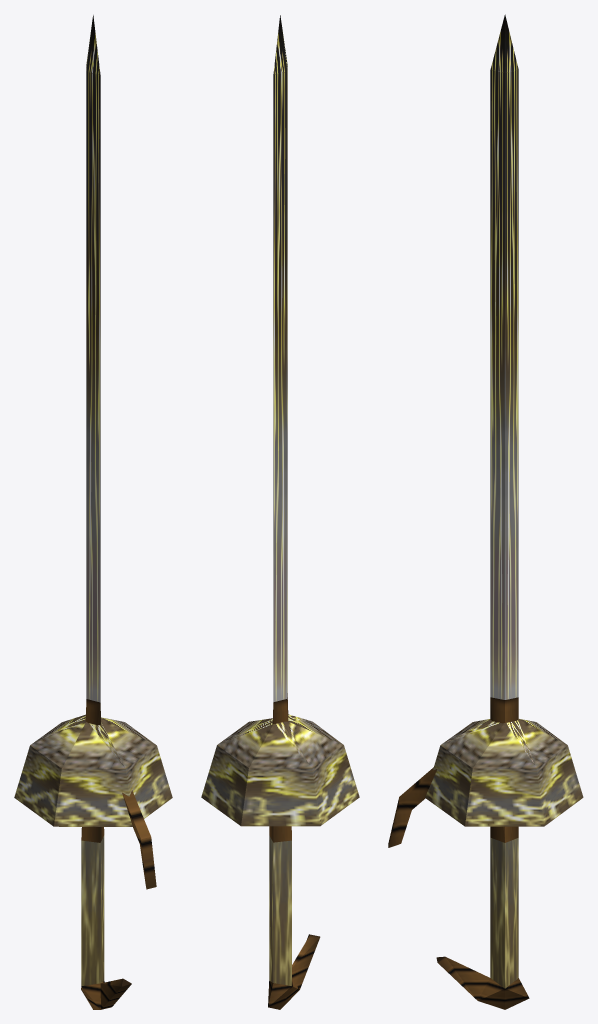
File: blademaster01_5.obj
3 views of the same model, side by side, from view 1: azimuth 30°, elevation 25°; view 2: azimuth 150°, elevation 25°; view 3: azimuth 270°, elevation 25° (orthographic).
Parts seen in each view (by area): view 1: MDL_cw1hsw01_5; view 2: MDL_cw1hsw01_5; view 3: MDL_cw1hsw01_5.
Boxes of the visible parts, <box> form: MDL_cw1hsw01_5: <box>14,15,172,1009</box>; MDL_cw1hsw01_5: <box>201,15,359,1009</box>; MDL_cw1hsw01_5: <box>388,14,583,1009</box>.
Bounding box in the file's own units: 0.175 × 1.4 × 0.2487.
